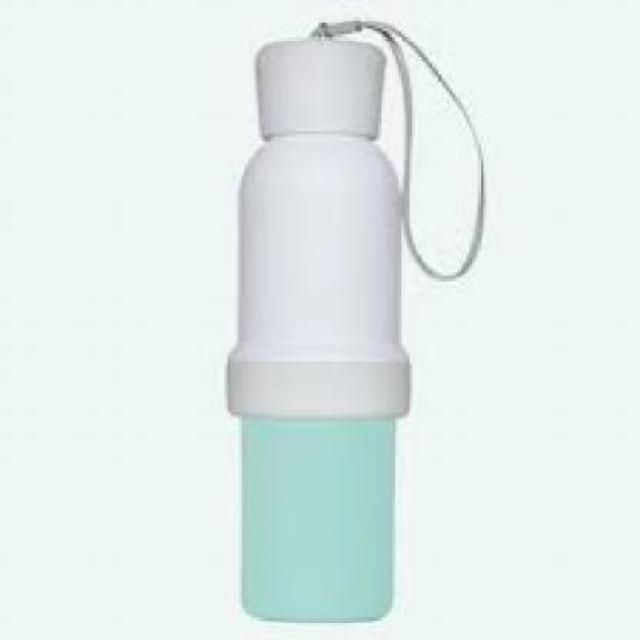Drinking: (210, 9, 437, 626)
